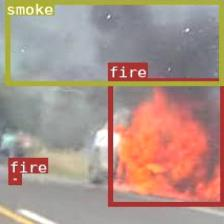fire: (107, 78, 223, 205), (8, 172, 21, 183)
smoke: (5, 0, 222, 85)
